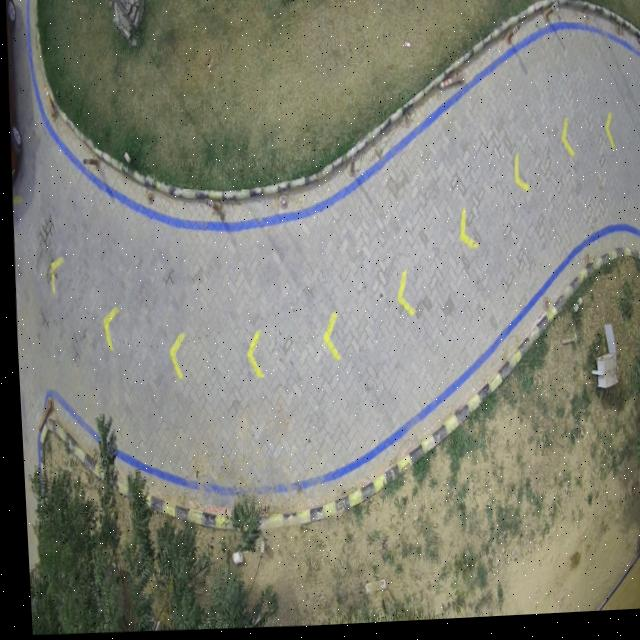No Car: (6, 0, 640, 634)
